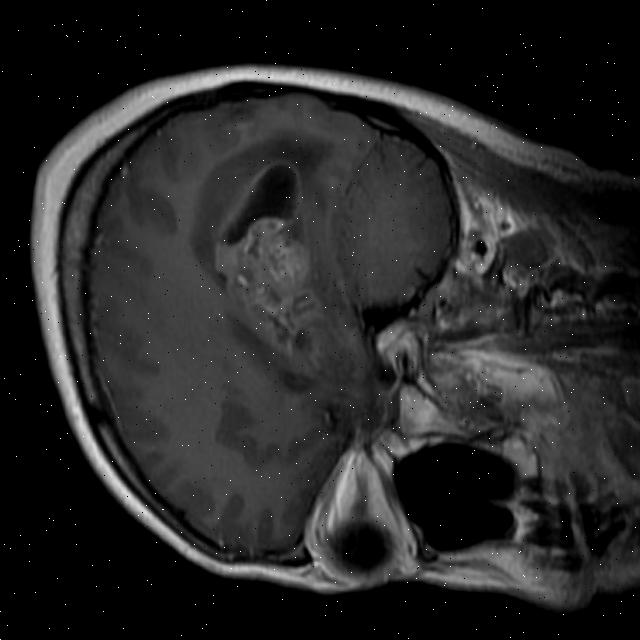Glioma: (204, 151, 336, 365)
